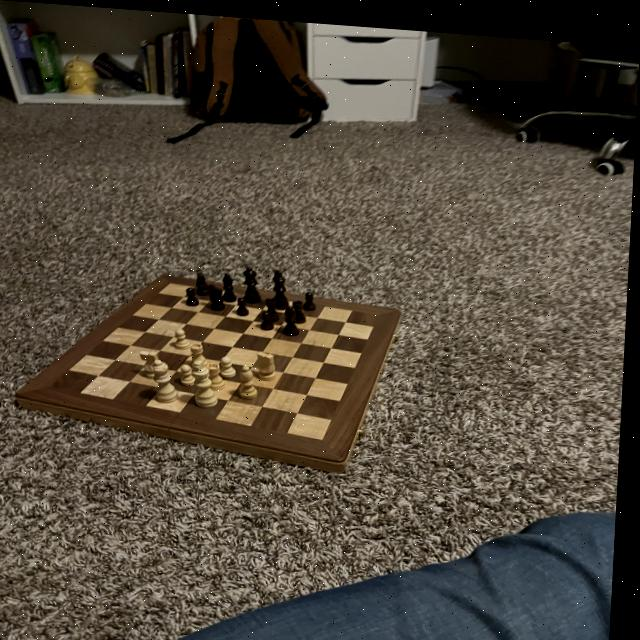bishop: (283, 299, 305, 333), (224, 269, 241, 299)
black-bishop: (273, 263, 295, 305)
black-king: (209, 280, 231, 308), (196, 268, 214, 294)
black-knight: (185, 283, 204, 305), (237, 292, 254, 314), (262, 307, 278, 328), (305, 286, 320, 306)
black-pawn: (243, 261, 268, 301)
black-queen: (290, 293, 313, 321), (266, 292, 285, 318)
black-rook: (241, 360, 265, 397)
white-bishop: (192, 355, 223, 407)
white-king: (143, 346, 167, 378), (258, 346, 281, 378)
white-knight: (221, 351, 243, 376), (181, 361, 201, 386), (176, 325, 195, 348)
white-pawn: (152, 356, 184, 402)
white-queen: (208, 358, 232, 389), (191, 337, 213, 367)
